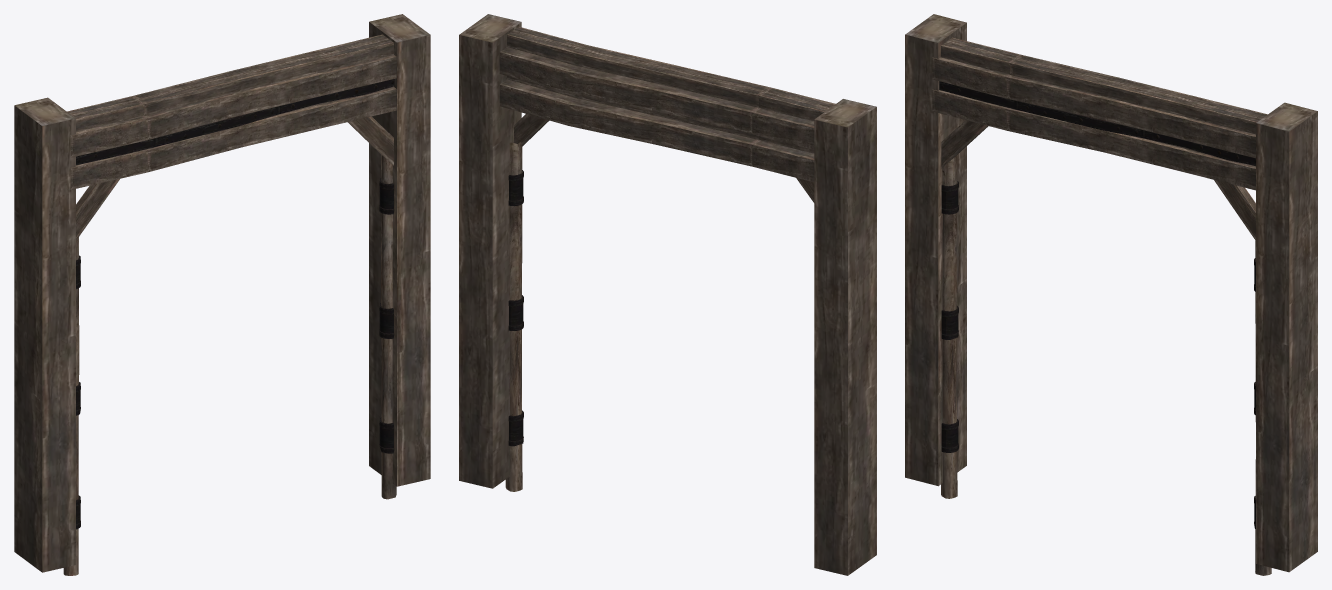
File: jav_struc_def_truestone_gateb-transformed.glb
The picture shows the model from 3 angles, left to right: view 1: azimuth 30°, elevation 25°; view 2: azimuth 150°, elevation 25°; view 3: azimuth 330°, elevation 25°; orthographic projection.
Parts seen in each view (by area): view 1: default; view 2: default; view 3: default.
Boxes of the visible parts, <box> form: default: <box>14,14,430,575</box>; default: <box>459,14,876,575</box>; default: <box>905,14,1317,575</box>.
Bounding box in the file's own units: 7.97 × 9.06 × 1.09.
Materials: 1 (1 with a texture image).
